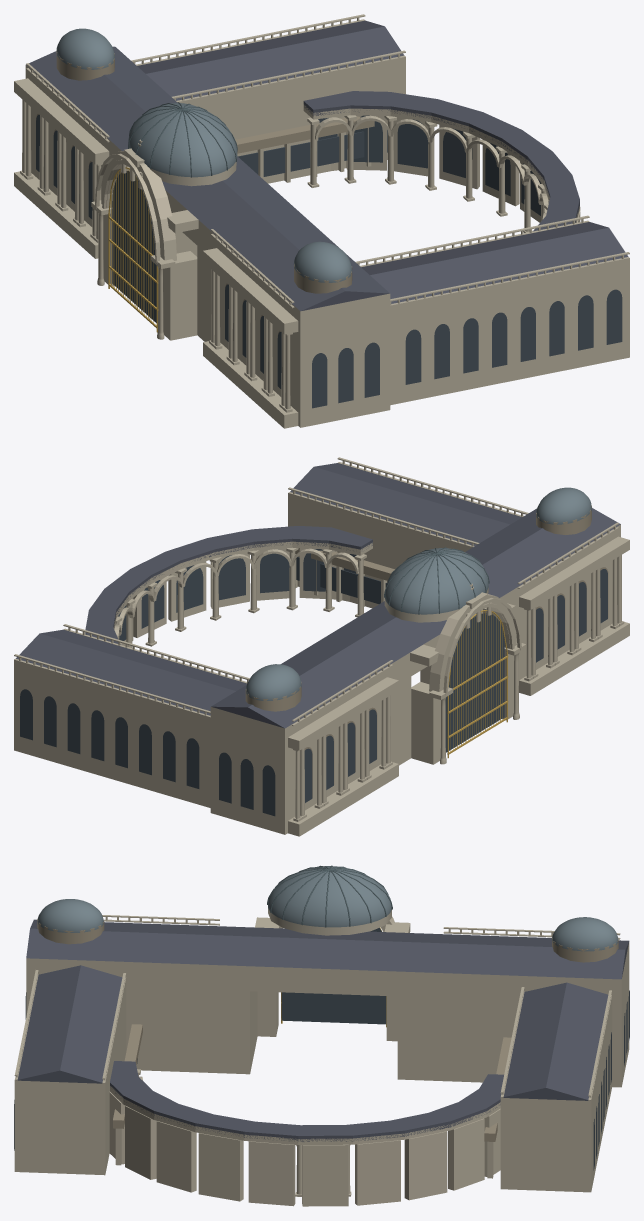
The model's file is paris-petit-palais-near.glb.
3 renders of one model, top to bottom at view 1: azimuth 30°, elevation 25°; view 2: azimuth 150°, elevation 25°; view 3: azimuth 270°, elevation 25°, orthographic. The views are drawn at different scales.
Parts seen in each view (by area): view 1: paris-petit-palais-stone, paris-petit-palais-roof, paris-petit-palais-shadow, paris-petit-palais-roofLight, paris-petit-palais-gold, paris-petit-palais-stoneDark, paris-petit-palais-iron; view 2: paris-petit-palais-stone, paris-petit-palais-roof, paris-petit-palais-shadow, paris-petit-palais-roofLight, paris-petit-palais-gold, paris-petit-palais-stoneDark, paris-petit-palais-iron; view 3: paris-petit-palais-stone, paris-petit-palais-roof, paris-petit-palais-roofLight, paris-petit-palais-shadow, paris-petit-palais-stoneDark, paris-petit-palais-iron.
Boxes of the visible parts, x1,y1,x2,y2 form: paris-petit-palais-stone: [14, 14, 629, 428]; paris-petit-palais-roof: [26, 20, 628, 311]; paris-petit-palais-shadow: [36, 114, 622, 408]; paris-petit-palais-roofLight: [56, 28, 352, 282]; paris-petit-palais-gold: [108, 167, 158, 332]; paris-petit-palais-stoneDark: [36, 50, 387, 369]; paris-petit-palais-iron: [128, 102, 237, 177]; paris-petit-palais-stone: [14, 457, 629, 836]; paris-petit-palais-roof: [16, 463, 620, 728]; paris-petit-palais-shadow: [20, 549, 607, 816]; paris-petit-palais-roofLight: [246, 487, 591, 700]; paris-petit-palais-gold: [447, 610, 508, 758]; paris-petit-palais-stoneDark: [245, 505, 608, 797]; paris-petit-palais-iron: [384, 547, 489, 614]; paris-petit-palais-stone: [14, 908, 629, 1206]; paris-petit-palais-roof: [16, 919, 629, 1141]; paris-petit-palais-roofLight: [37, 866, 618, 951]; paris-petit-palais-shadow: [14, 928, 629, 1170]; paris-petit-palais-stoneDark: [37, 919, 618, 1141]; paris-petit-palais-iron: [267, 865, 392, 927].
Size of the model in its own units: 96.49 by 42.74 by 134.
